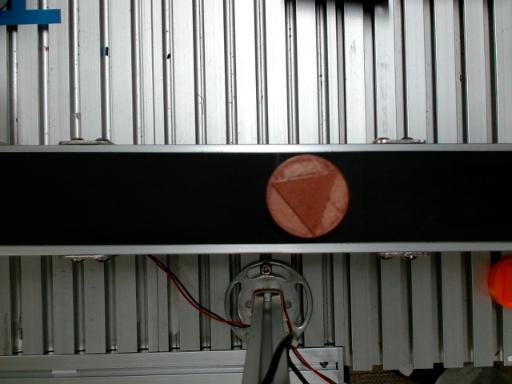Brown_Waper: (266, 155, 349, 238)
Not_Square: (270, 172, 338, 237)
